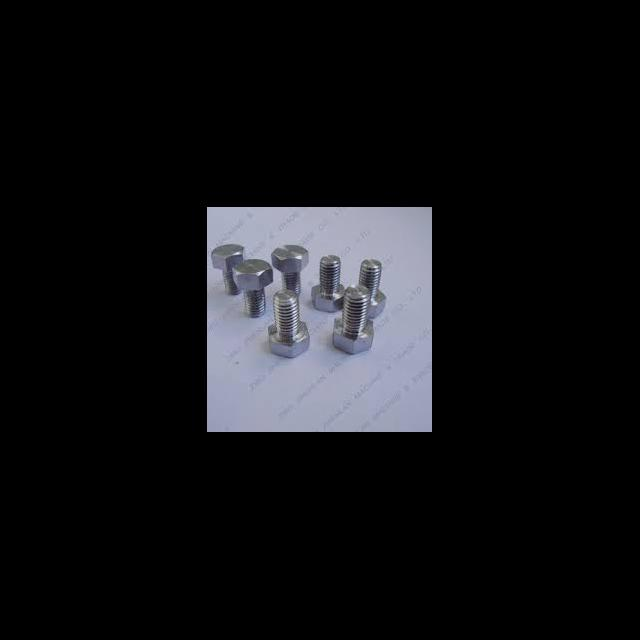metal: (328, 280, 380, 358), (266, 282, 310, 362), (228, 256, 272, 324), (266, 238, 312, 300), (308, 250, 351, 314), (352, 253, 388, 320), (210, 240, 247, 298)
